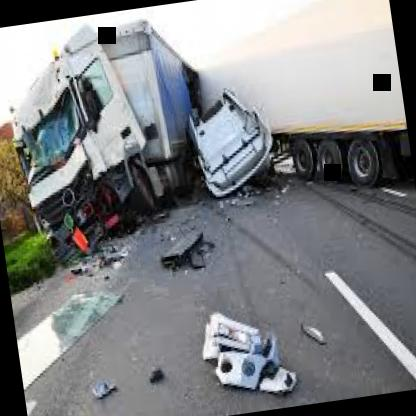accident: (0, 0, 347, 275)
